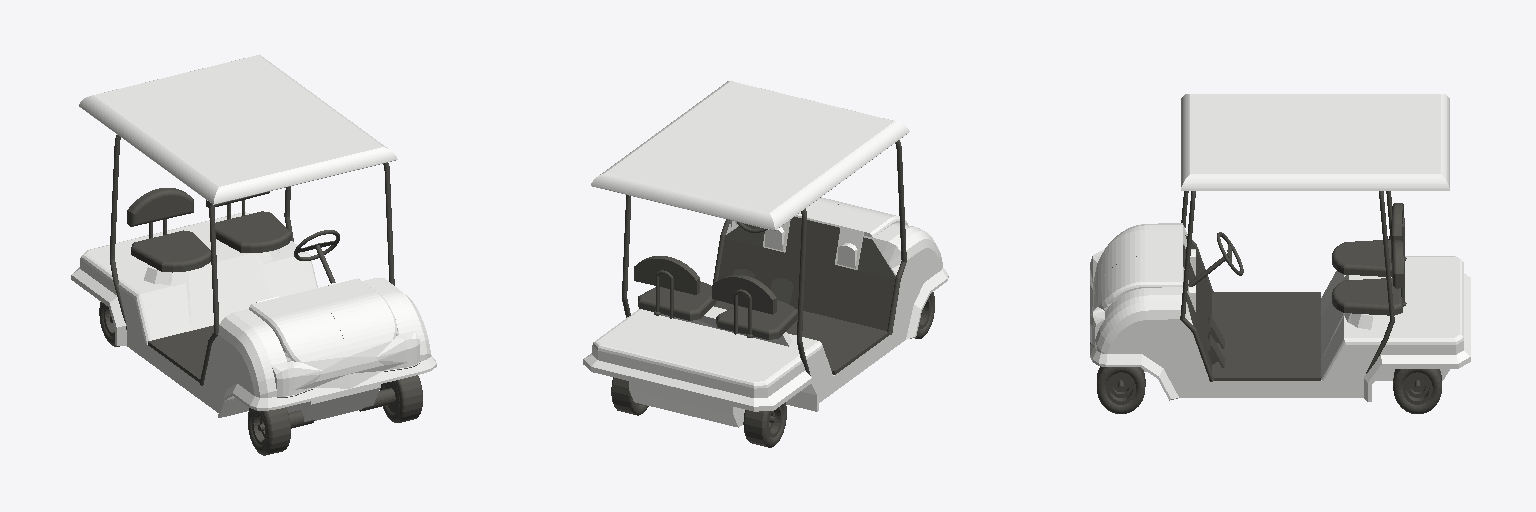
3 renders of one model, left to right at view 1: azimuth 30°, elevation 25°; view 2: azimuth 150°, elevation 25°; view 3: azimuth 270°, elevation 25°, orthographic.
Visible parts, largest first — view 1: 3d-model; view 2: 3d-model; view 3: 3d-model.
Part boxes in pixels (left/top/right/bottom): 3d-model: left=71, top=55, right=436, bottom=455; 3d-model: left=583, top=81, right=948, bottom=447; 3d-model: left=1090, top=94, right=1470, bottom=413.
Bounding box in the file's own units: 1.14 × 1.4 × 1.98.
10 materials, 2 textured.